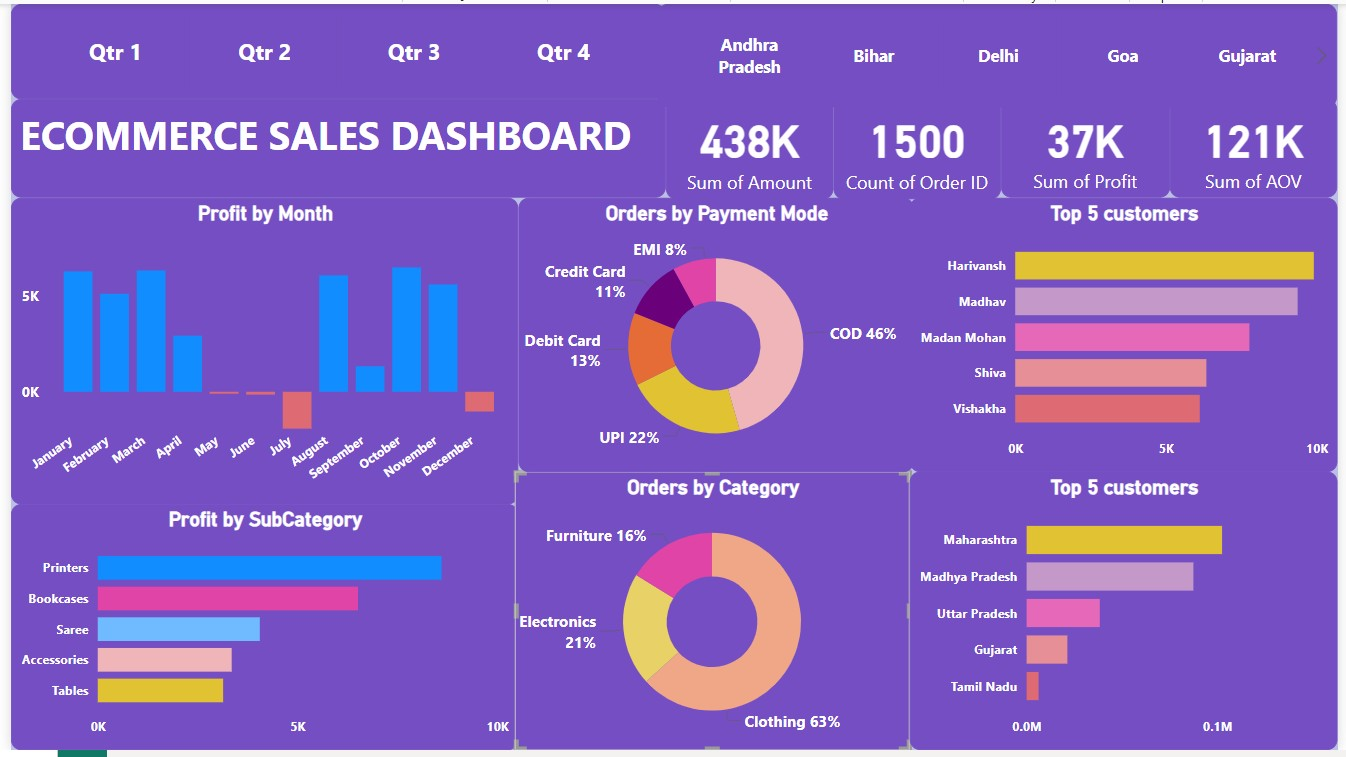

The dashboard page shown, as its layout file describes it:
{"tool":"powerbi","page":{"name":"Page 1","canvas":[1280,720],"ordinal":0},"visuals":[{"type":"textbox","box":[0,91.7,632.2,95.3],"z":0},{"type":"columnChart","title":"Profit by Month","fields":{"Category":["Orders.Order Date.Variation.Date Hierarchy.Month"],"Y":["Details.Profit"]},"box":[0,186.6,489.9,296.4],"z":1000},{"type":"barChart","title":"Profit by SubCategory","fields":{"Category":["Details.Sub-Category"],"Y":["Details.Profit"]},"box":[0,483,489.9,237.4],"z":2000},{"type":"donutChart","title":"Orders by Category","fields":{"Category":["Details.Category"],"Y":["Details.Order ID"]},"box":[485.8,451.5,381.5,269],"z":3000},{"type":"donutChart","title":"Orders by Payment Mode","fields":{"Y":["Details.Order ID"],"Category":["Details.PaymentMode"]},"box":[489.9,186.6,381.5,264.8],"z":4000},{"type":"card","fields":{"Values":["Details.Amount"]},"box":[632.2,91.7,161.7,96.5],"z":5000},{"type":"card","fields":{"Values":["Details.Order ID"]},"box":[793.8,91.7,161.7,96.5],"z":6000},{"type":"card","fields":{"Values":["Details.Profit"]},"box":[955.5,91.7,162.9,95.3],"z":7000},{"type":"card","fields":{"Values":["Details.AOV"]},"box":[1118.4,91.7,161.7,95.3],"z":8000},{"type":"barChart","title":"Top 5 customers","fields":{"Y":["Details.Amount"],"Category":["Orders.CustomerName"]},"box":[867.2,186.6,413,264.8],"z":9000},{"type":"barChart","title":"Top 5 customers","fields":{"Y":["Details.Amount"],"Category":["Orders.State"]},"box":[867.2,451.5,413,269],"z":10000},{"type":"slicer","fields":{"Values":["Orders.Order Date.Variation.Date Hierarchy.Quarter"]},"box":[0,0,632.2,91.7],"z":11000},{"type":"slicer","fields":{"Values":["Orders.State"]},"box":[623.7,0,656.3,100.1],"z":11001}]}

Visuals, with their boxes in screenshot pixels (x1, y1, x2, y2), scaled from the page's 1280x720 canvas onto the 1346x757 screenshot:
textbox: <bbox>0, 96, 665, 197</bbox>
"Profit by Month" columnChart: <bbox>0, 196, 515, 508</bbox>
"Profit by SubCategory" barChart: <bbox>0, 508, 515, 756</bbox>
"Orders by Category" donutChart: <bbox>511, 475, 912, 756</bbox>
"Orders by Payment Mode" donutChart: <bbox>515, 196, 916, 475</bbox>
card - Details.Amount: <bbox>665, 96, 835, 198</bbox>
card - Details.Order ID: <bbox>835, 96, 1005, 198</bbox>
card - Details.Profit: <bbox>1005, 96, 1176, 197</bbox>
card - Details.AOV: <bbox>1176, 96, 1345, 197</bbox>
"Top 5 customers" barChart: <bbox>912, 196, 1345, 475</bbox>
"Top 5 customers" barChart: <bbox>912, 475, 1345, 756</bbox>
slicer - Orders.Order Date.Variation.Date Hierarchy.Quarter: <bbox>0, 0, 665, 96</bbox>
slicer - Orders.State: <bbox>656, 0, 1345, 105</bbox>
